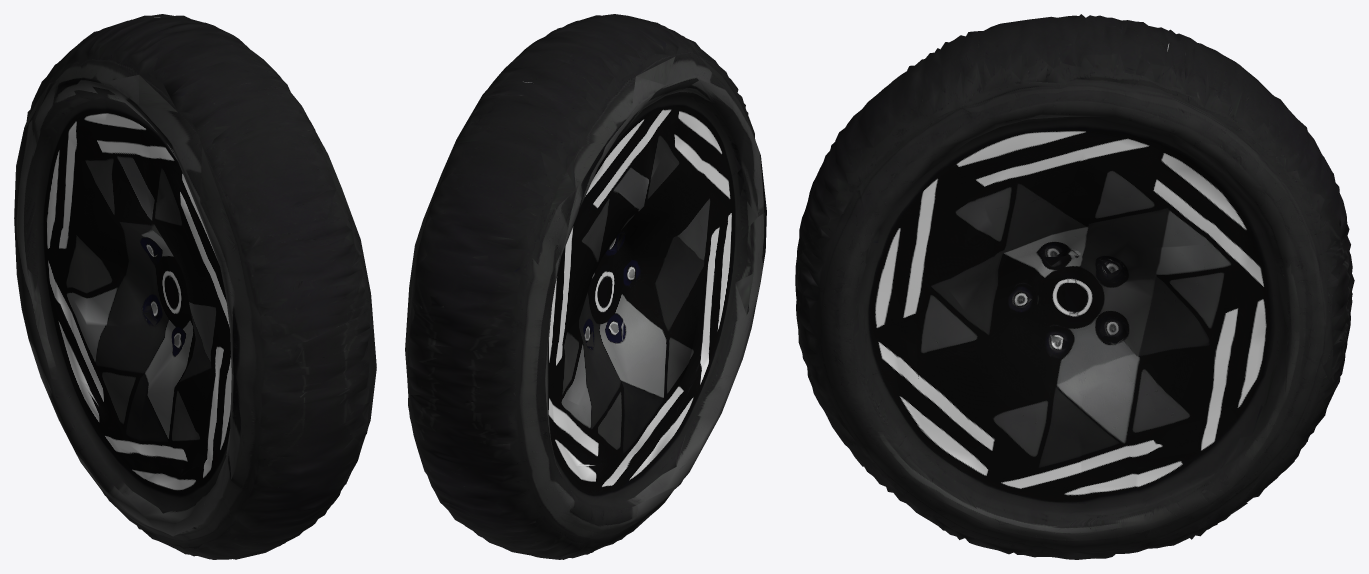
The model's file is nittaku_wheel_modern.obj.
3 views of the same model, side by side, from view 1: azimuth 30°, elevation 25°; view 2: azimuth 150°, elevation 25°; view 3: azimuth 270°, elevation 25° (orthographic). The views are drawn at different scales.
Parts seen in each view (by area): view 1: wheel; view 2: wheel; view 3: wheel.
Boxes of the visible parts, left/top/right/bottom form: wheel: left=14, top=14, right=376, bottom=559; wheel: left=405, top=14, right=766, bottom=559; wheel: left=795, top=14, right=1354, bottom=559.
Bounding box in the file's own units: 0.2069 × 0.6968 × 0.6763.
